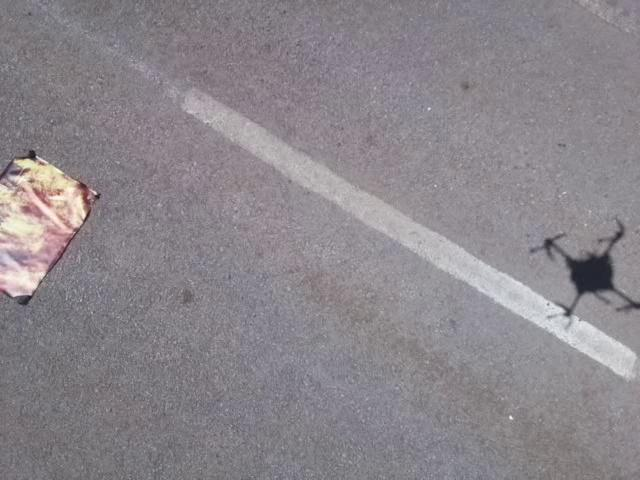fire-poster: (0, 147, 102, 306)
